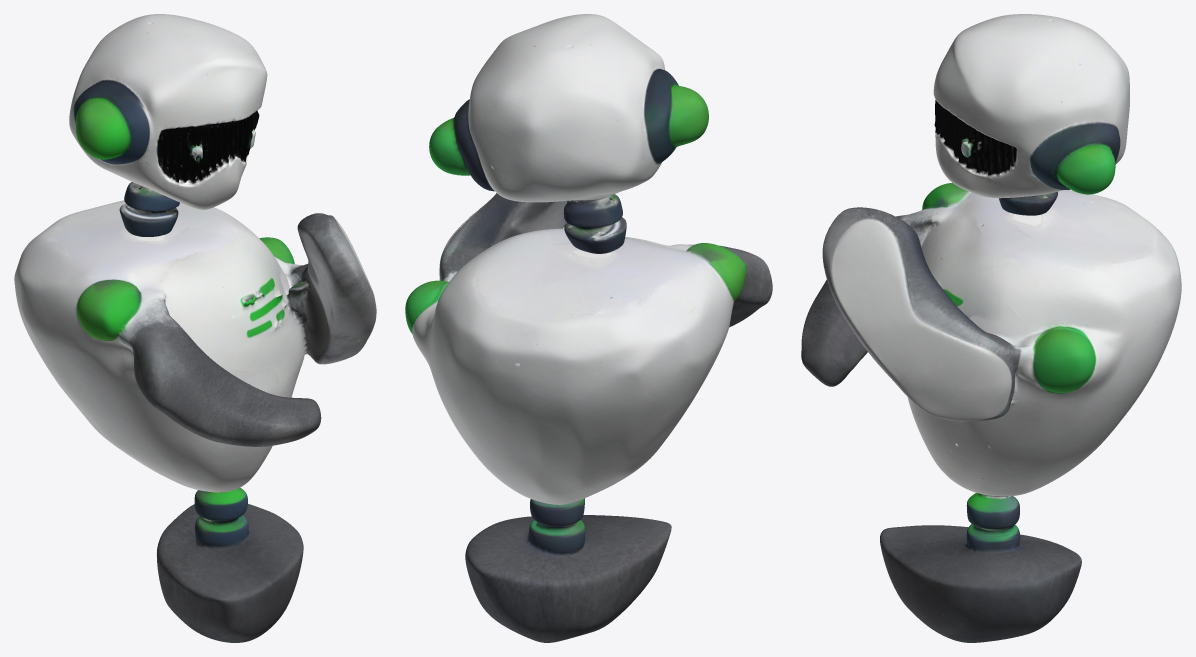
File: Meshy_AI_Snowbyte_0703073158_texture.glb
The picture shows the model from 3 angles, left to right: view 1: azimuth 30°, elevation 25°; view 2: azimuth 150°, elevation 25°; view 3: azimuth 270°, elevation 25°; orthographic projection. The views are drawn at different scales.
Size of the model in its own units: 0.9821 by 2 by 1.16.
Materials: 1 (1 with a texture image).
